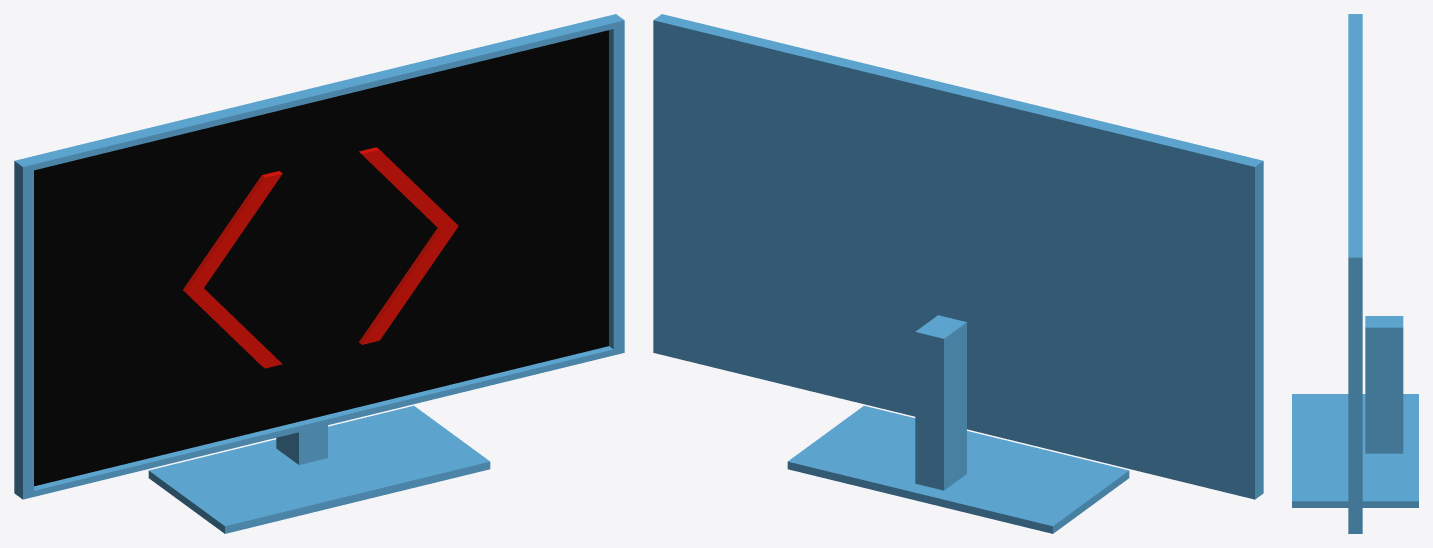
Rendered from monitor.gltf.
3 views of the same model, side by side, from view 1: azimuth 30°, elevation 25°; view 2: azimuth 150°, elevation 25°; view 3: azimuth 270°, elevation 25° (orthographic). The views are drawn at different scales.
Visible parts, largest first — view 1: Cube.001, Cube, Cube.003, Cube.006, Cube.005, Cube.002; view 2: Cube, Cube.003, Cube.002; view 3: Cube.003, Cube, Cube.002.
Part boxes in pixels (x1,y1,x2,y2): Cube.001: (34, 30, 608, 486); Cube: (14, 14, 624, 499); Cube.003: (148, 406, 490, 533); Cube.006: (183, 171, 282, 368); Cube.005: (359, 147, 458, 344); Cube.002: (276, 425, 327, 464); Cube: (653, 14, 1263, 499); Cube.003: (787, 406, 1129, 533); Cube.002: (915, 315, 966, 490); Cube.003: (1292, 394, 1418, 507); Cube: (1348, 14, 1362, 533); Cube.002: (1365, 316, 1403, 453).
Bounding box in the file's own units: 3.79 × 2.3 × 0.832.
